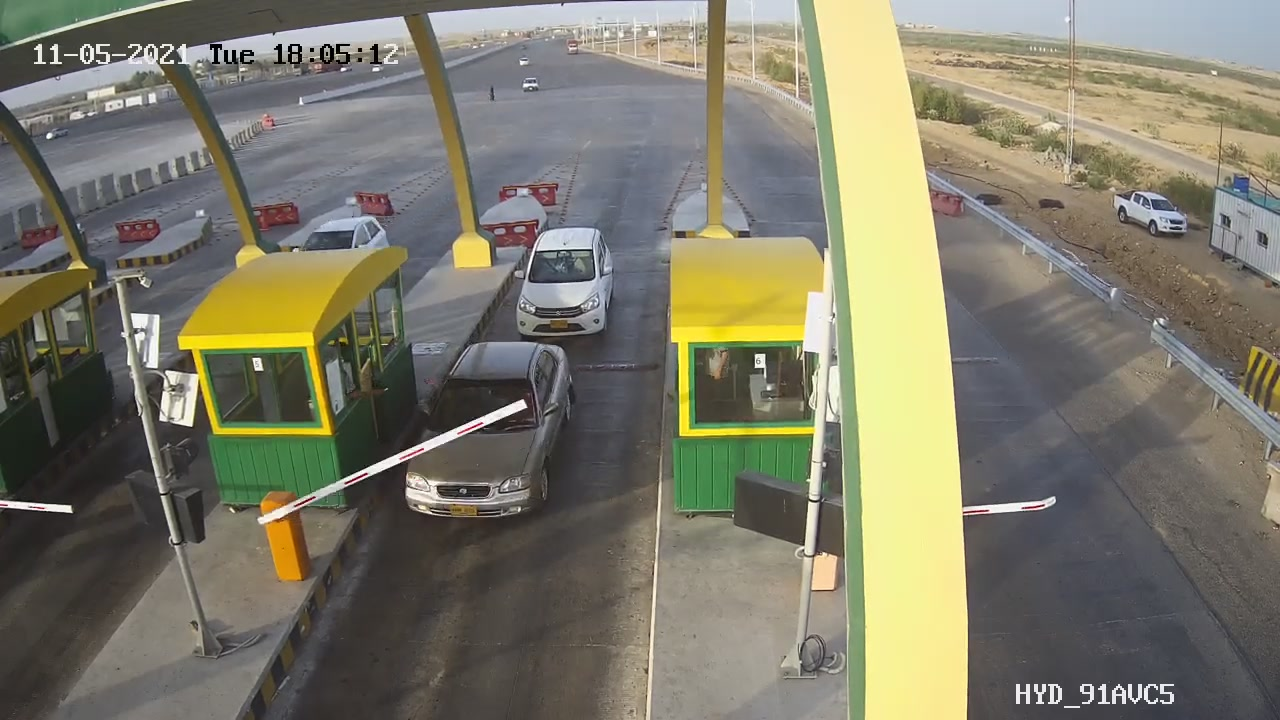F1: (392, 338, 594, 529), (499, 217, 629, 347)
